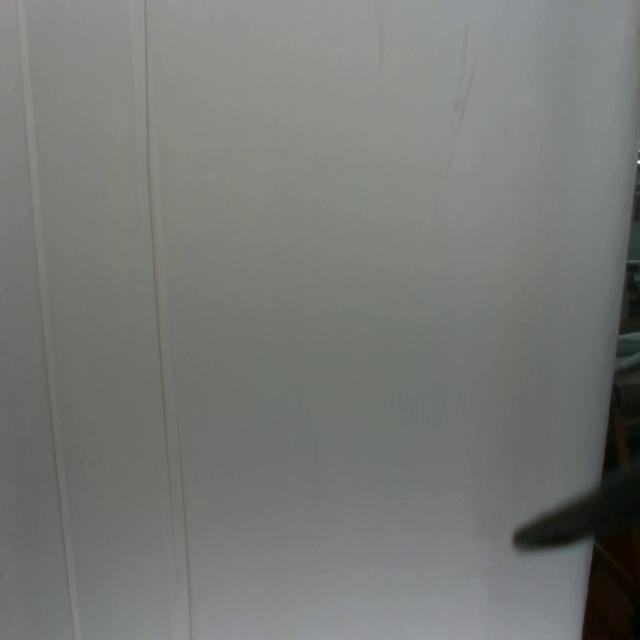crease: (17, 4, 82, 640), (135, 0, 175, 553), (178, 438, 194, 638)
